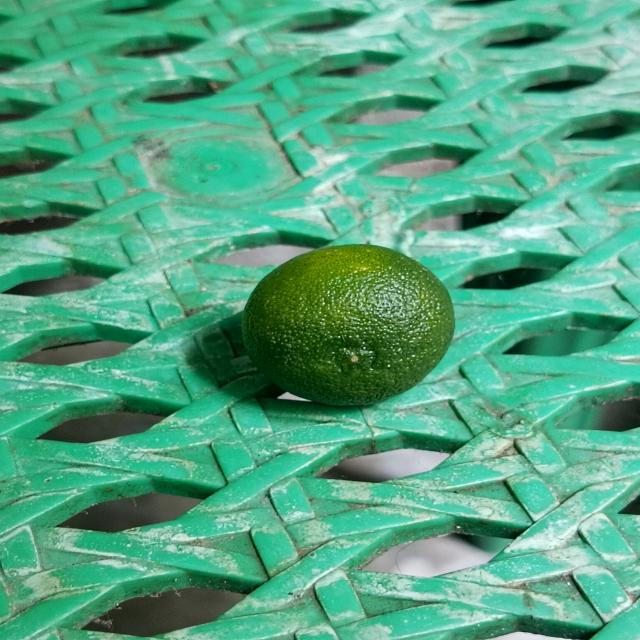heathy: (238, 241, 463, 409)
